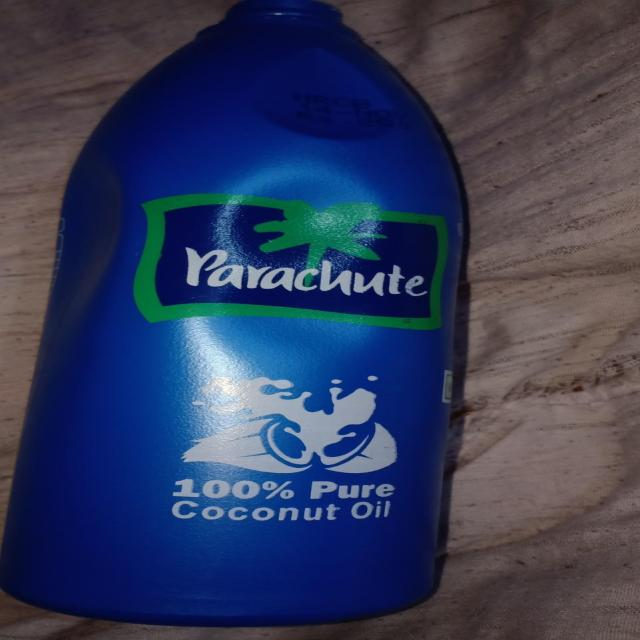parachute_oil: (37, 3, 482, 632)
